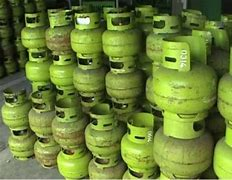gas_ijo: (151, 36, 218, 117), (154, 113, 212, 177), (121, 112, 162, 172), (86, 106, 125, 156), (105, 59, 146, 105), (53, 98, 89, 148), (103, 12, 141, 57), (147, 16, 180, 62), (28, 90, 60, 137), (71, 12, 104, 56), (1, 88, 34, 129), (44, 9, 74, 52), (74, 55, 107, 94), (57, 146, 93, 180), (212, 121, 232, 180), (216, 47, 232, 120), (20, 12, 51, 49), (23, 51, 53, 85), (48, 54, 78, 88), (88, 156, 127, 180), (32, 138, 61, 170), (8, 128, 36, 160)
